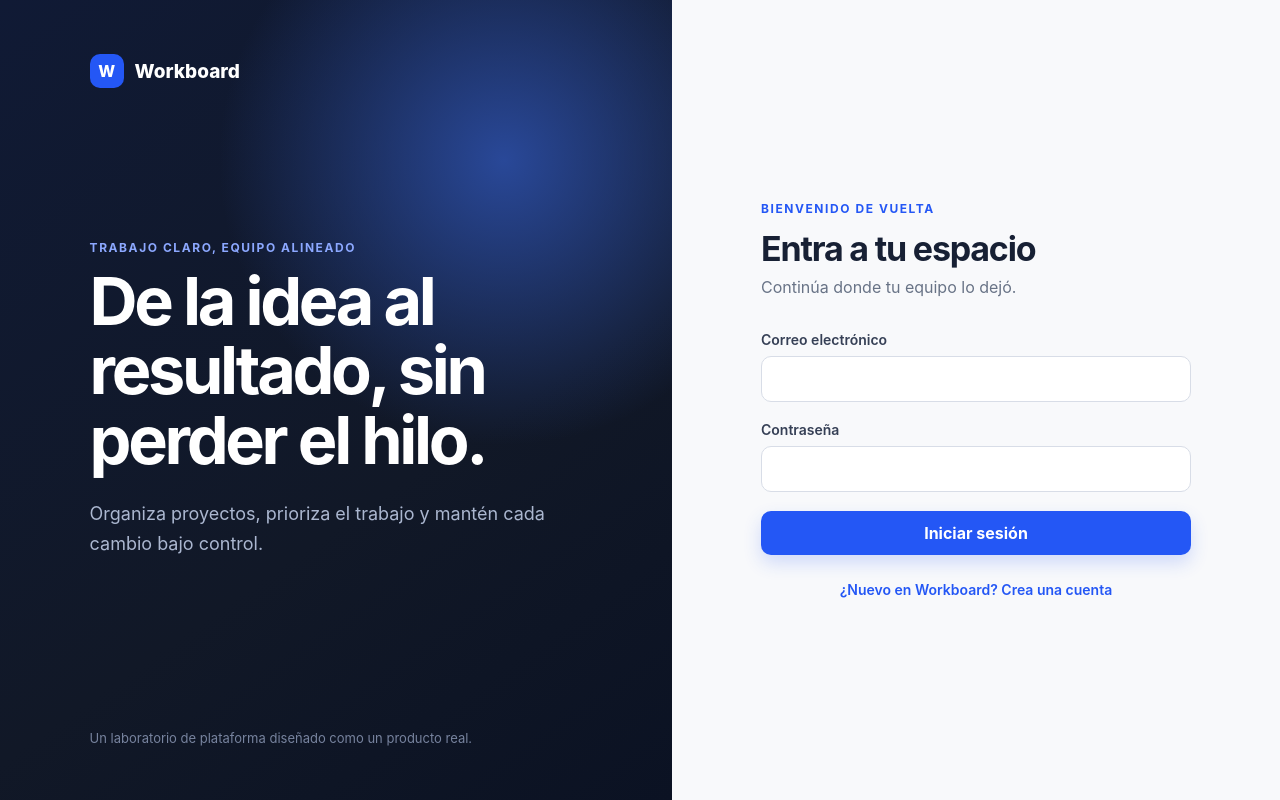
Test case: registers, logs in, and opens the empty workspace
Click the button "¿Nuevo en Workboard? Crea una cuenta" at coordinates (976, 590), box top-left (761, 580), bottom-right (1191, 599)
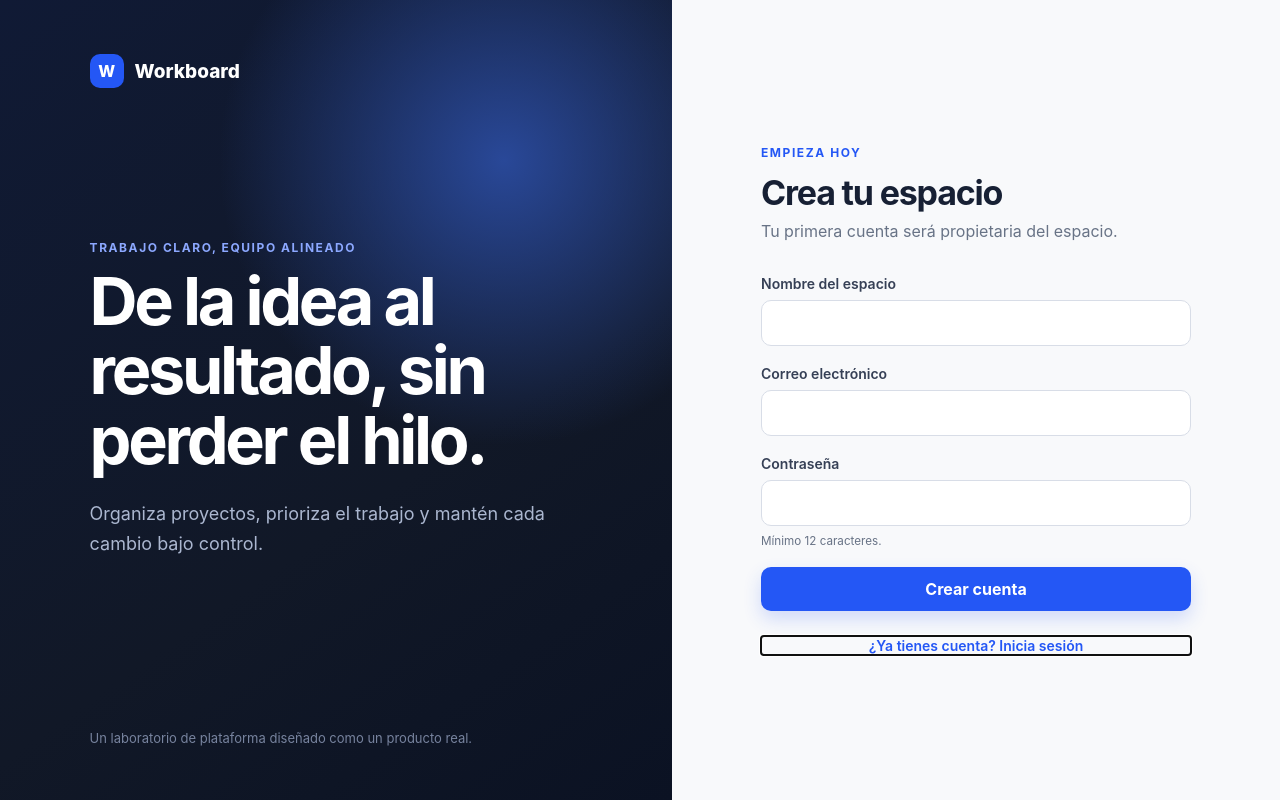
Type "Alpha" into the field labelled "Nombre del espacio" at coordinates (976, 323), box top-left (761, 300), bottom-right (1191, 346)
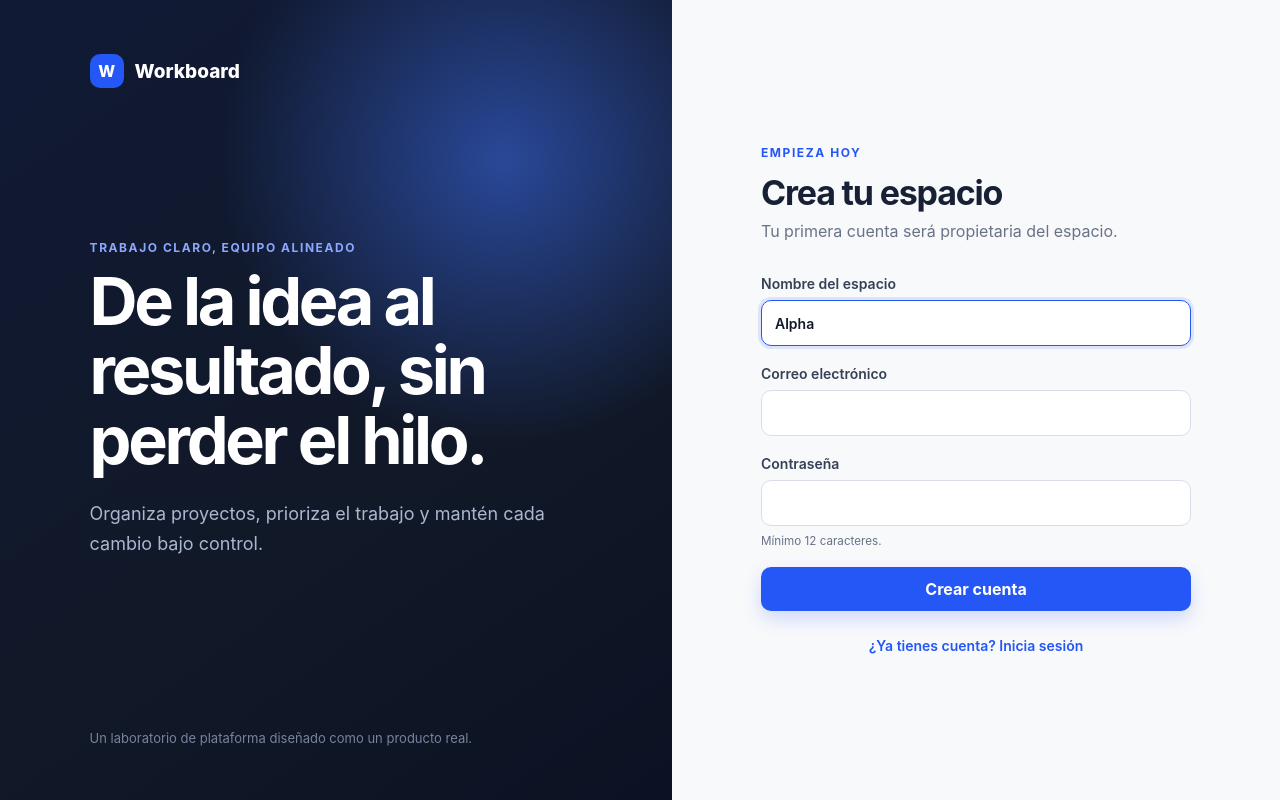
Type "owner@example.com" into the field labelled "Correo electrónico" at coordinates (976, 413), box top-left (761, 390), bottom-right (1191, 436)
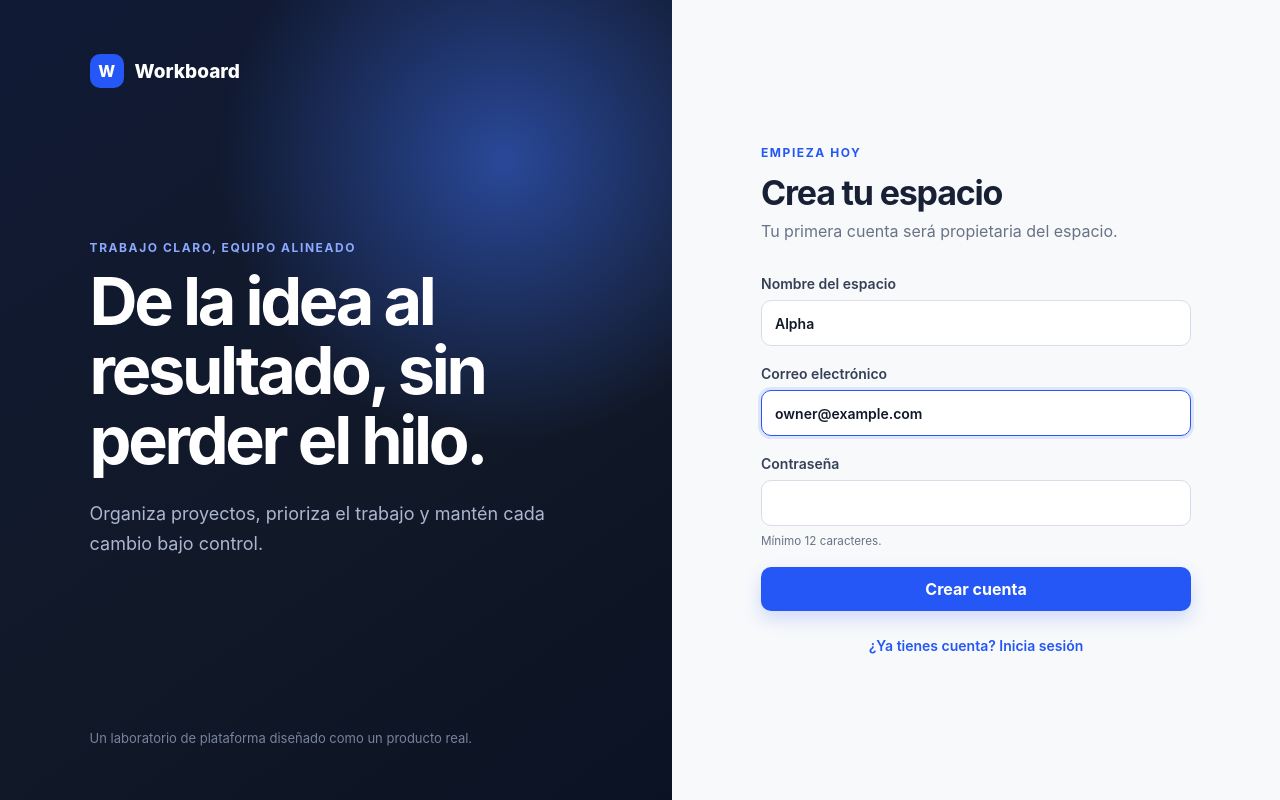
Type "correct-horse-battery-staple" into the password field labelled "Contraseña Mínimo 12 caracteres." at coordinates (976, 503), box top-left (761, 480), bottom-right (1191, 526)
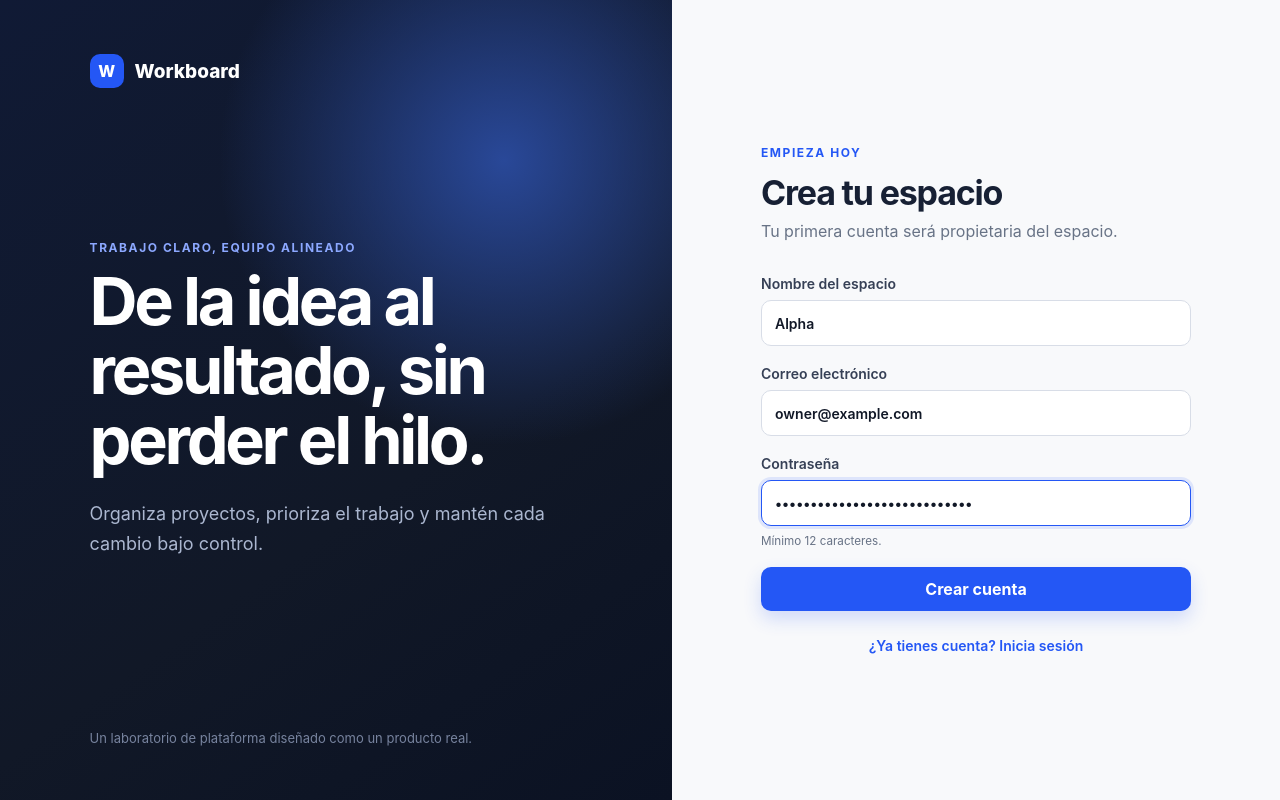
Click the button "Crear cuenta" at coordinates (976, 589), box top-left (761, 567), bottom-right (1191, 611)
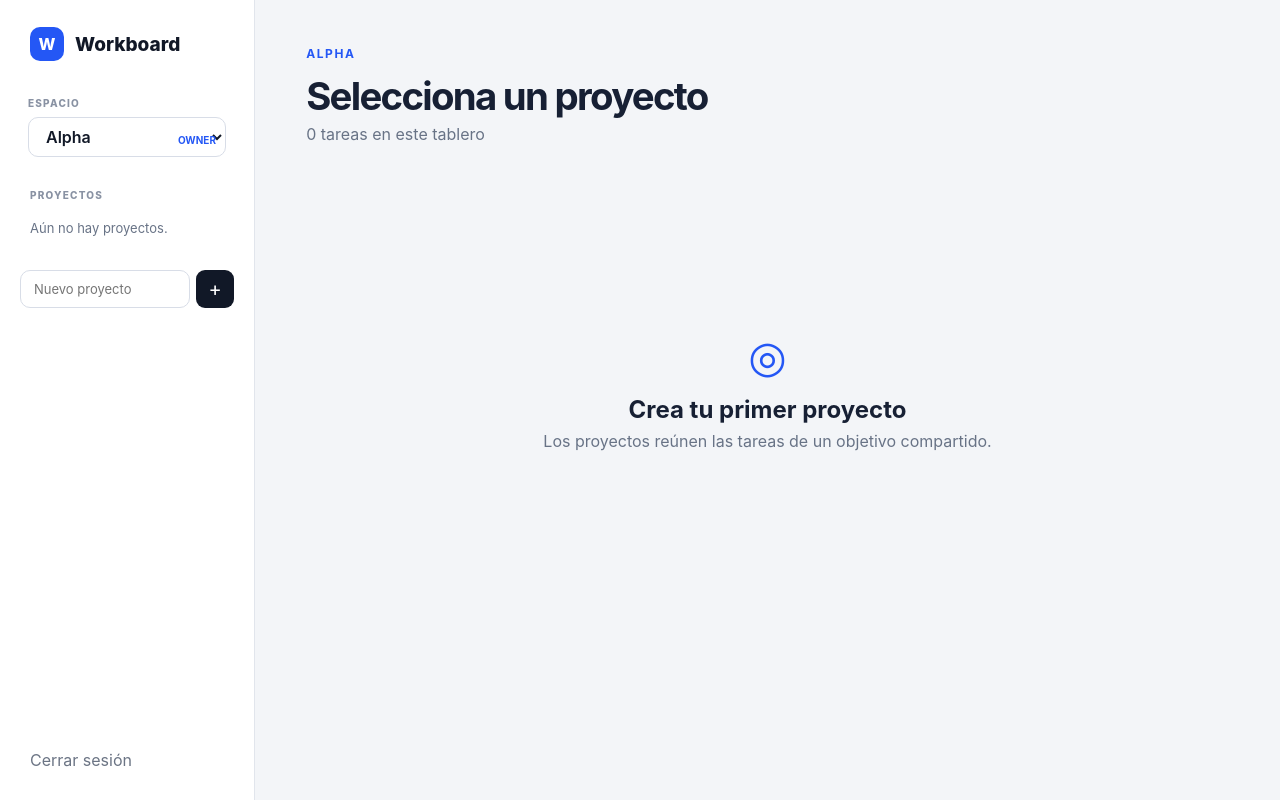
Expected: the heading "Crea tu primer proyecto" is shown, top-left (628, 395), bottom-right (906, 424)
